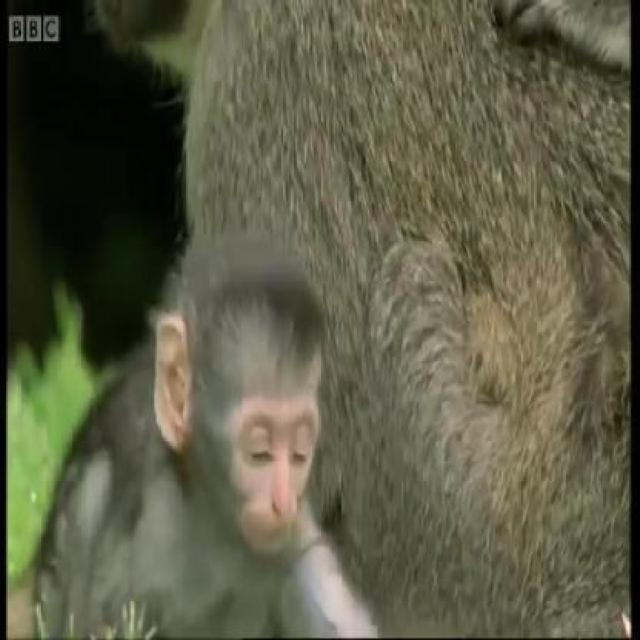Monkey: (84, 166, 348, 639)
